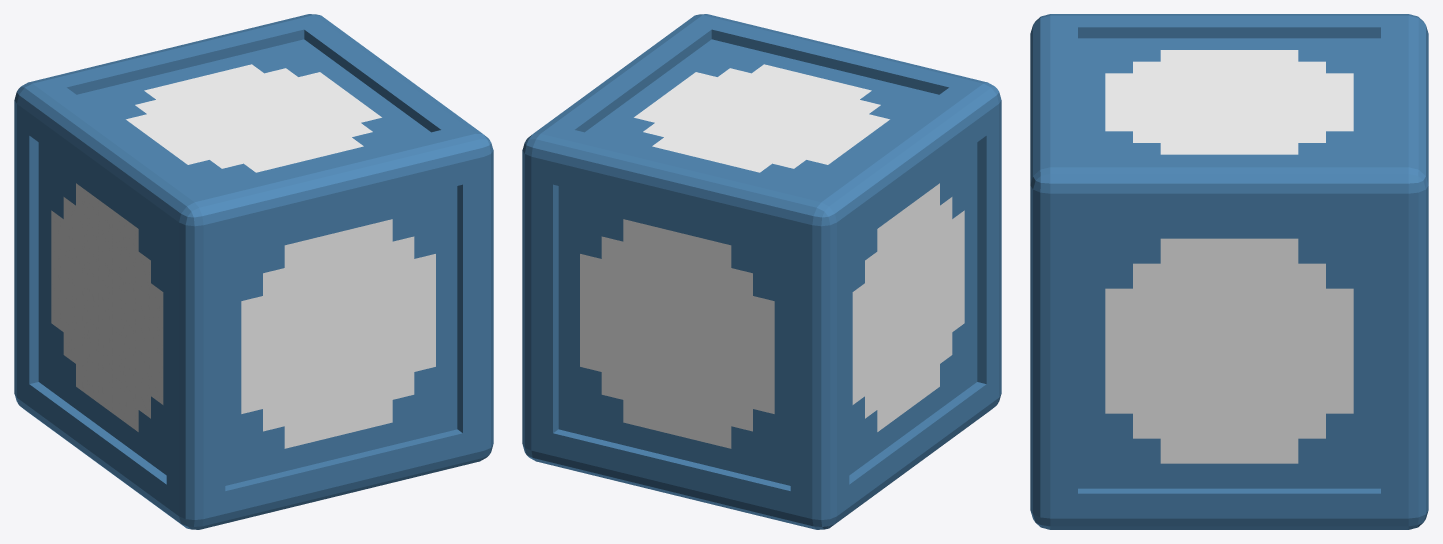
File: pickup.fbx
The picture shows the model from 3 angles, left to right: view 1: azimuth 30°, elevation 25°; view 2: azimuth 150°, elevation 25°; view 3: azimuth 270°, elevation 25°; orthographic projection. The views are drawn at different scales.
Parts seen in each view (by area): view 1: Cube; view 2: Cube; view 3: Cube.
Part boxes in pixels (x1,y1,x2,y2): Cube: (14,14,493,529); Cube: (522,14,1001,529); Cube: (1030,14,1428,529).
Size of the model in its own units: 1 by 1 by 1.
